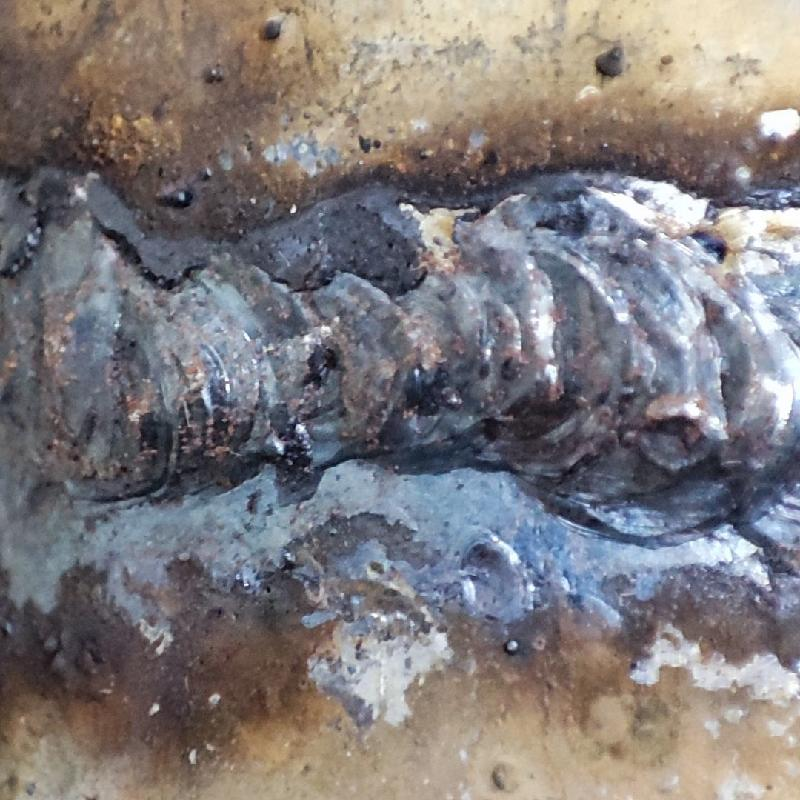good: (3, 167, 799, 565)
